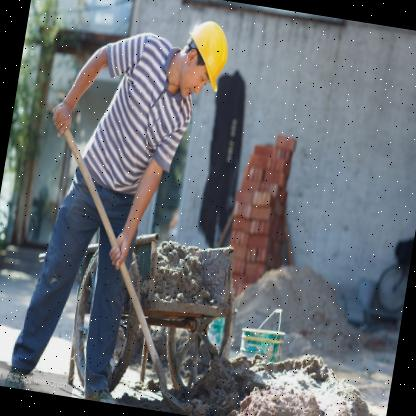capacete: (172, 12, 234, 106)
sem_colete_refletivo: (75, 30, 203, 195)
